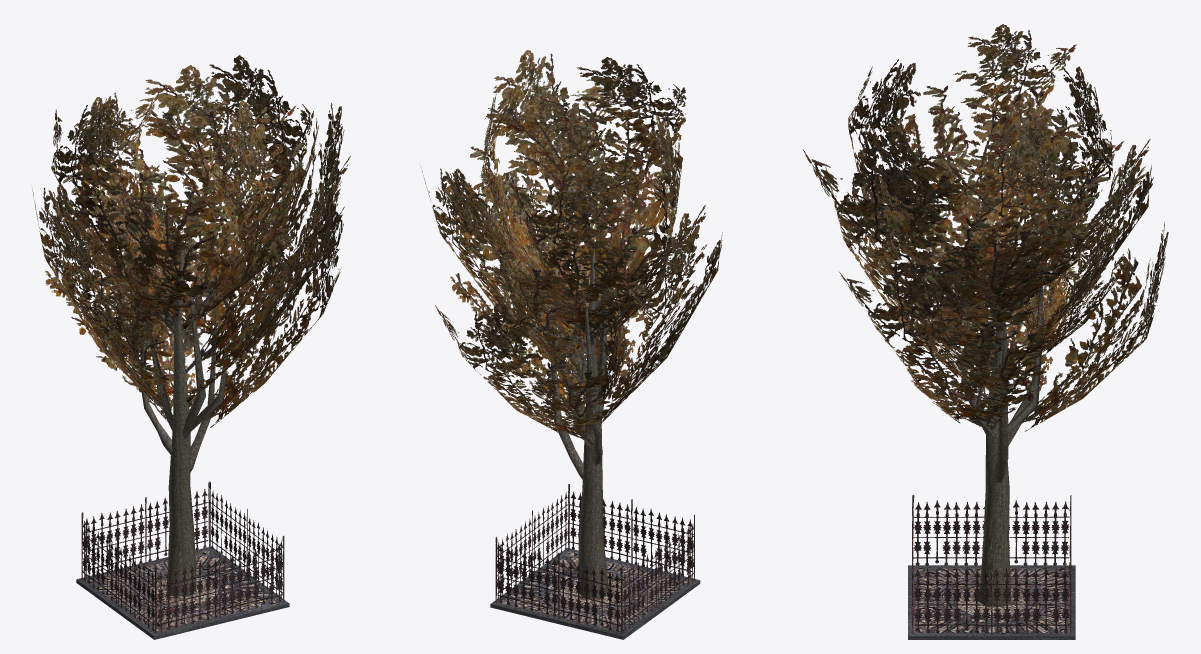
File: tree_decid_small3_basefence_leaf.fbx
3 renders of one model, left to right at view 1: azimuth 30°, elevation 25°; view 2: azimuth 150°, elevation 25°; view 3: azimuth 270°, elevation 25°, orthographic. The views are drawn at different scales.
Parts seen in each view (by area): view 1: mesh_0, mesh_2, mesh_1, mesh_3; view 2: mesh_0, mesh_2, mesh_3, mesh_1; view 3: mesh_0, mesh_2, mesh_3, mesh_1.
Part boxes in pixels (box(x1,y1,x2,y2)): mesh_0: box(31, 55, 350, 427); mesh_2: box(81, 481, 284, 633); mesh_1: box(140, 241, 229, 596); mesh_3: box(76, 546, 289, 639); mesh_0: box(420, 50, 722, 441); mesh_2: box(495, 484, 694, 633); mesh_3: box(490, 548, 700, 639); mesh_1: box(545, 249, 609, 599); mesh_0: box(802, 24, 1168, 434); mesh_2: box(912, 495, 1071, 634); mesh_3: box(908, 565, 1075, 639); mesh_1: box(961, 233, 1043, 606).
Size of the model in its own units: 495 by 742 by 497.
4 materials, 4 textured.
